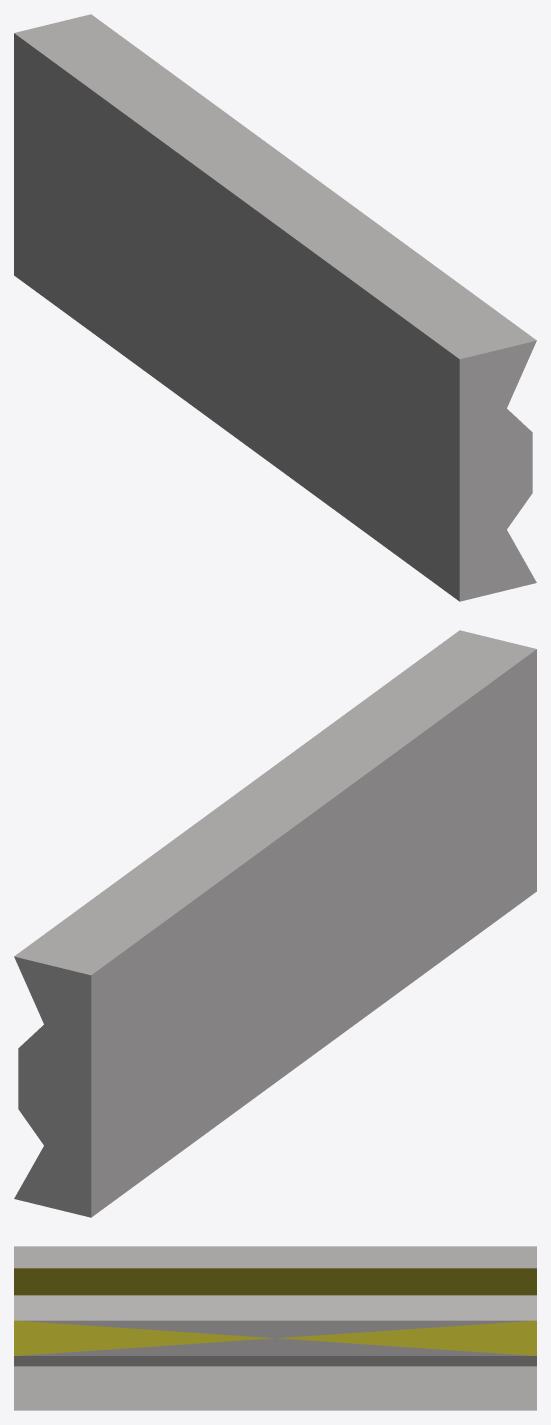
Rendered from WallyellowFinal 1.fbx.
3 renders of one model, top to bottom at view 1: azimuth 30°, elevation 25°; view 2: azimuth 150°, elevation 25°; view 3: azimuth 270°, elevation 25°, orthographic. The views are drawn at different scales.
Visible parts, largest first — view 1: Cube; view 2: Cube; view 3: Cube.
Part boxes in pixels (x1,y1,x2,y2): Cube: (14,14,536,601); Cube: (14,630,536,1217); Cube: (14,1246,536,1410).
Size of the model in its own units: 20 by 60 by 200.
